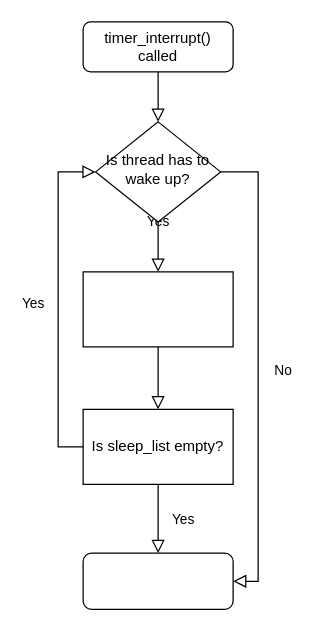
This 313x631 diagram has some shape labels left out. The box of each missing label's shape, as (x1, y1, x2, y2) in pixels:
End: (82, 552, 233, 609)
Remove from sleep_list and unblock: (82, 271, 233, 347)
